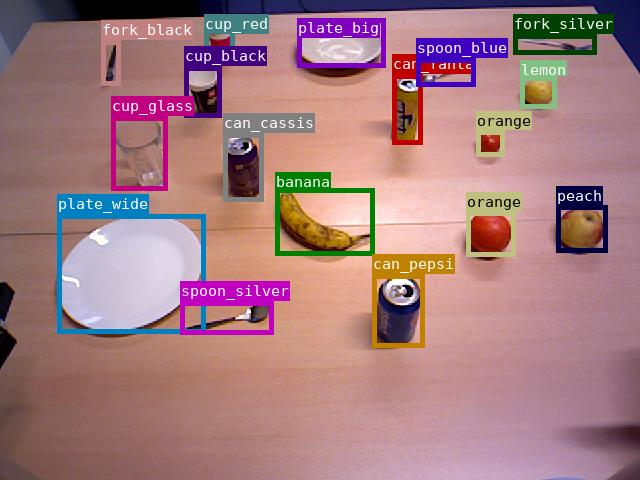banana: (275, 188, 374, 255)
can_cassis: (223, 133, 263, 201)
can_fanta: (392, 74, 422, 144)
can_pepsi: (372, 274, 424, 347)
cup_black: (184, 66, 221, 117)
cup_glass: (111, 116, 167, 190)
cup_red: (204, 14, 234, 64)
fork_black: (101, 40, 120, 85)
fork_silver: (513, 34, 596, 54)
lemon: (520, 76, 556, 108)
orange: (466, 211, 515, 256), (476, 130, 504, 156)
peach: (556, 205, 607, 252)
plate_big: (297, 18, 385, 67)
plate_wide: (57, 214, 205, 333)
spoon_blue: (416, 58, 475, 86)
spoon_silver: (180, 301, 273, 334)
